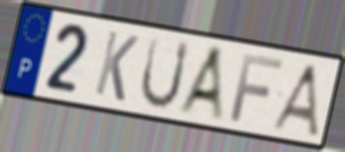2: (40, 22, 90, 97)
A: (267, 61, 321, 140), (175, 44, 227, 126)
F: (227, 51, 286, 124)
K: (92, 28, 141, 105)
U: (137, 34, 192, 112)
